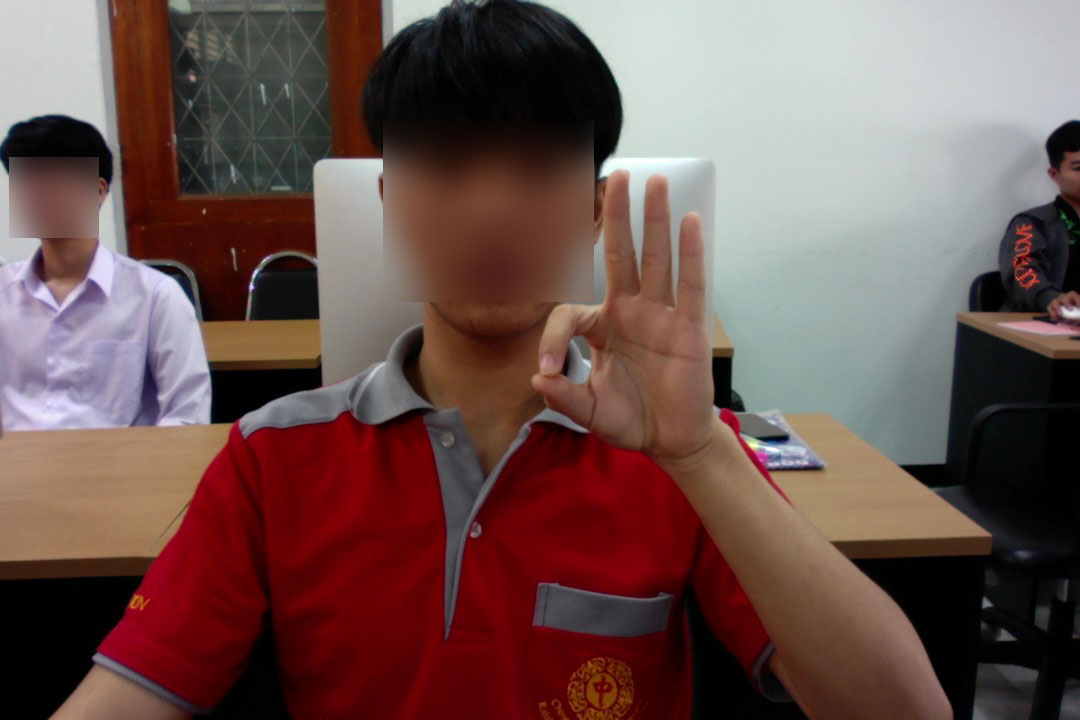for: (522, 159, 736, 481)
